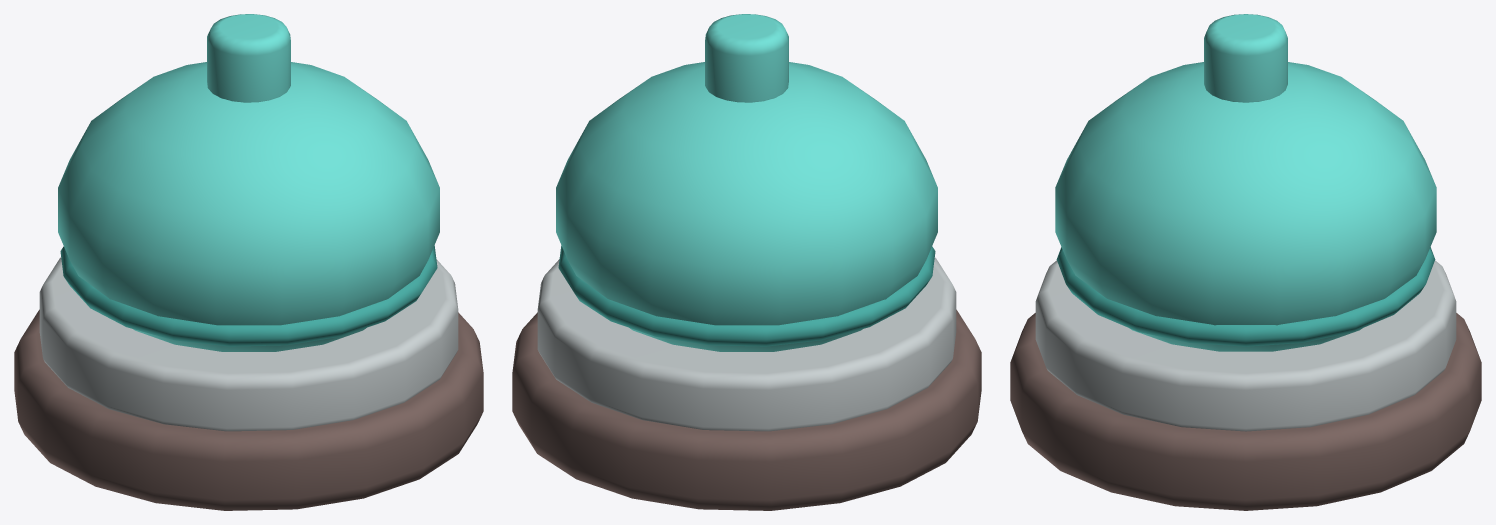
Rendered from service_bell.glb.
3 views of the same model, side by side, from view 1: azimuth 30°, elevation 25°; view 2: azimuth 150°, elevation 25°; view 3: azimuth 270°, elevation 25° (orthographic).
Visible parts, largest first — view 1: Tint_Mint, Cocoa, Metal, MintDark, Mint; view 2: Tint_Mint, Cocoa, Metal, MintDark, Mint; view 3: Tint_Mint, Cocoa, Metal, MintDark, Mint.
Part boxes in pixels (box(x1,y1,x2,y2)): Tint_Mint: box(58, 62, 439, 351); Cocoa: box(14, 309, 483, 510); Metal: box(39, 257, 458, 431); MintDark: box(60, 245, 437, 346); Mint: box(207, 14, 290, 102); Tint_Mint: box(556, 62, 937, 351); Cocoa: box(512, 309, 981, 510); Metal: box(537, 257, 956, 431); MintDark: box(558, 245, 935, 346); Mint: box(705, 14, 788, 102); Tint_Mint: box(1055, 62, 1436, 351); Cocoa: box(1010, 313, 1481, 510); Metal: box(1035, 260, 1456, 431); MintDark: box(1056, 247, 1435, 346); Mint: box(1204, 14, 1287, 102).
Bounding box in the file's own units: 0.112 × 0.103 × 0.112.
